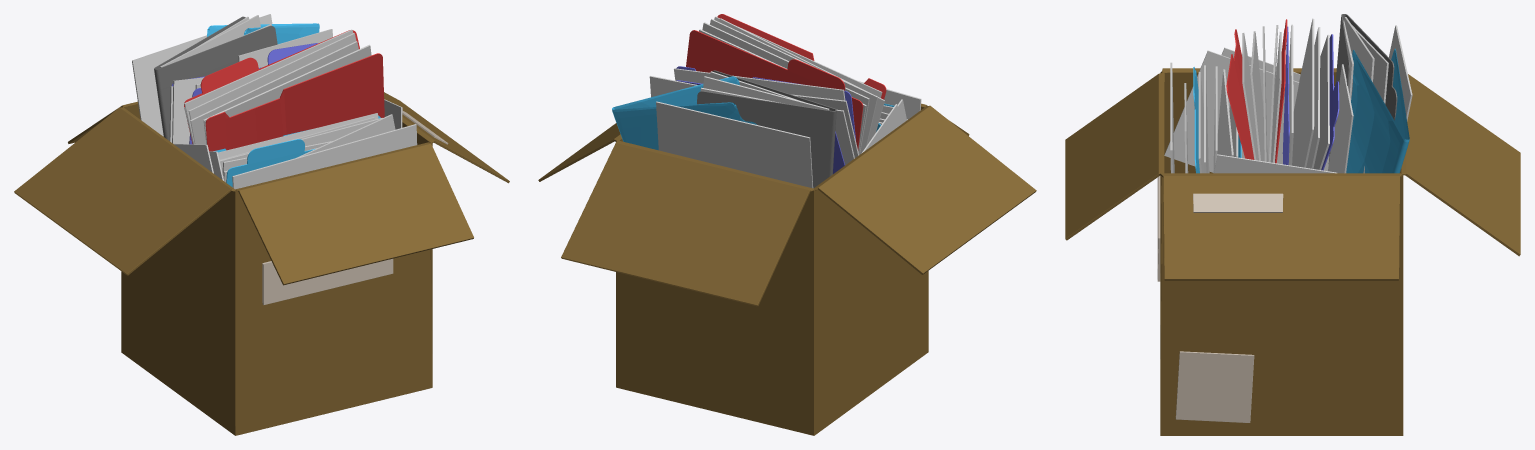
File: box_with_documents_mess.glb
The picture shows the model from 3 angles, left to right: view 1: azimuth 30°, elevation 25°; view 2: azimuth 150°, elevation 25°; view 3: azimuth 270°, elevation 25°; orthographic projection. The views are drawn at different scales.
Visible parts, largest first — view 1: Cube.004_0, object 11, object 7, object 24, object 25, object 13, object 16, object 14, object 17, object 15, object 4, object 20 (+7 smaller); view 2: Cube.004_0, object 25, object 11, object 7, object 23, object 5, object 13, object 15, object 9, object 16, object 2, object 4 (+5 smaller); view 3: Cube.004_0, object 23, object 26, object 4, object 11, object 29, object 2, object 7, object 28, object 3, object 16, object 6 (+11 smaller).
Part boxes in pixels (x1,y1,x2,y2): Cube.004_0: (14, 92, 509, 435); object 11: (184, 30, 384, 151); object 7: (154, 16, 277, 140); object 24: (232, 124, 417, 189); object 25: (132, 14, 272, 136); object 13: (188, 33, 356, 119); object 16: (190, 41, 358, 144); object 14: (203, 44, 371, 144); object 17: (214, 115, 380, 186); object 15: (184, 29, 353, 144); object 4: (172, 77, 203, 144); object 20: (218, 113, 378, 159); Cube.004_0: (538, 103, 1036, 435); object 25: (656, 101, 813, 188); object 11: (686, 14, 886, 150); object 7: (697, 70, 836, 188); object 23: (612, 76, 756, 150); object 5: (674, 68, 845, 100); object 13: (710, 19, 877, 154); object 15: (702, 22, 869, 154); object 9: (703, 76, 829, 110); object 16: (719, 18, 884, 144); object 2: (676, 66, 855, 173); object 4: (791, 94, 858, 157); Cube.004_0: (1065, 68, 1520, 435); object 23: (1346, 48, 1409, 173); object 26: (1164, 50, 1329, 172); object 4: (1292, 18, 1314, 167); object 11: (1226, 19, 1287, 163); object 29: (1328, 64, 1353, 173); object 2: (1282, 26, 1339, 170); object 7: (1328, 14, 1397, 163); object 28: (1214, 154, 1336, 173); object 3: (1313, 34, 1329, 169); object 16: (1250, 31, 1268, 161); object 6: (1306, 27, 1320, 168).
Size of the model in its own units: 4.17 by 3.38 by 4.01.
